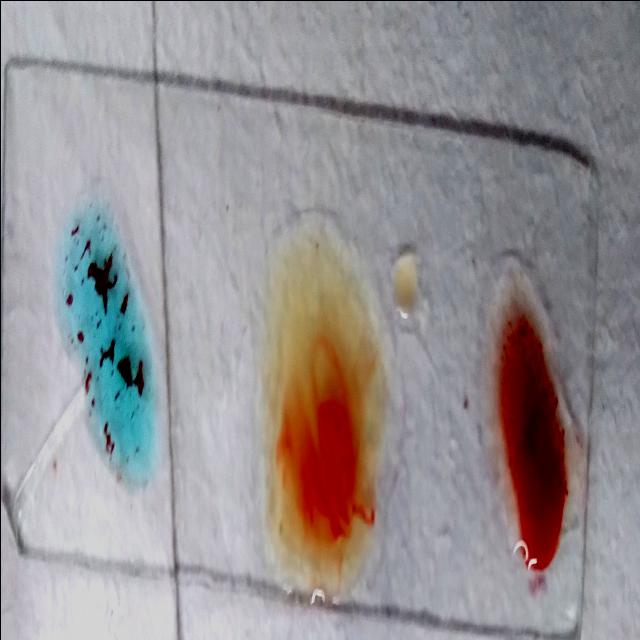A: (64, 204, 156, 483)
D: (476, 263, 572, 581)
